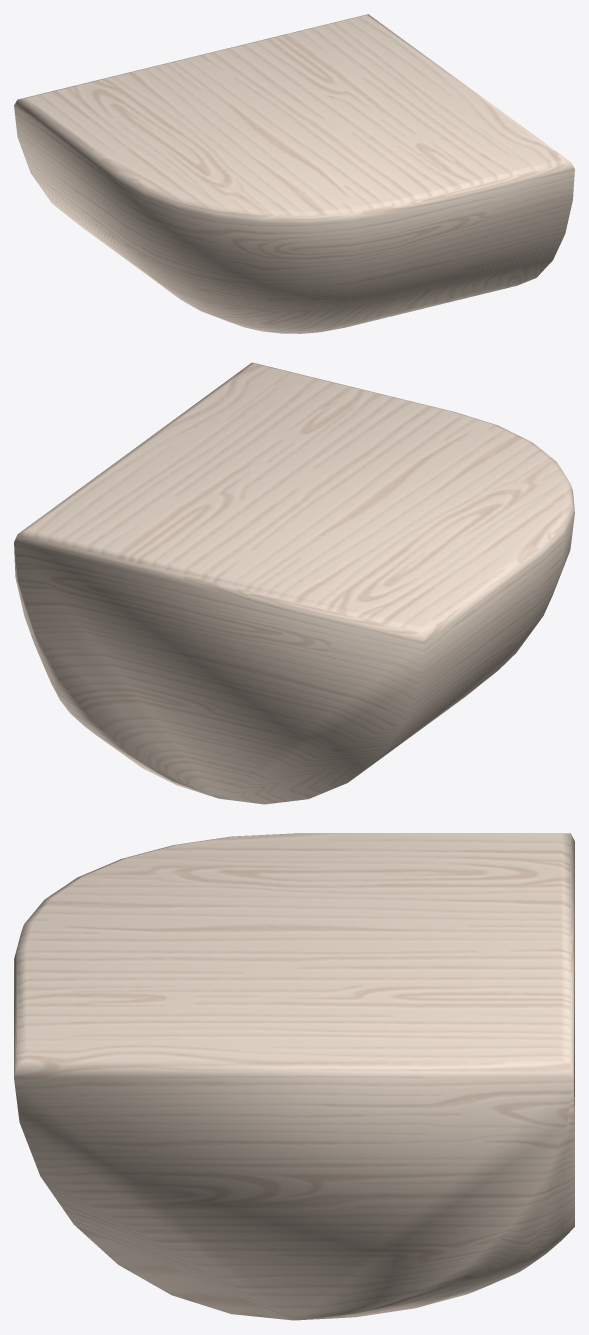
Rendered from curveedgebridge.fbx.
The picture shows the model from 3 angles, top to bottom: view 1: azimuth 30°, elevation 25°; view 2: azimuth 150°, elevation 25°; view 3: azimuth 270°, elevation 25°; orthographic projection. The views are drawn at different scales.
Visible parts, largest first — view 1: Cube; view 2: Cube; view 3: Cube.
Part boxes in pixels (x1,y1,x2,y2): Cube: (14,14,574,333); Cube: (14,362,574,804); Cube: (14,833,574,1320).
Size of the model in its own units: 199 by 100 by 199.
